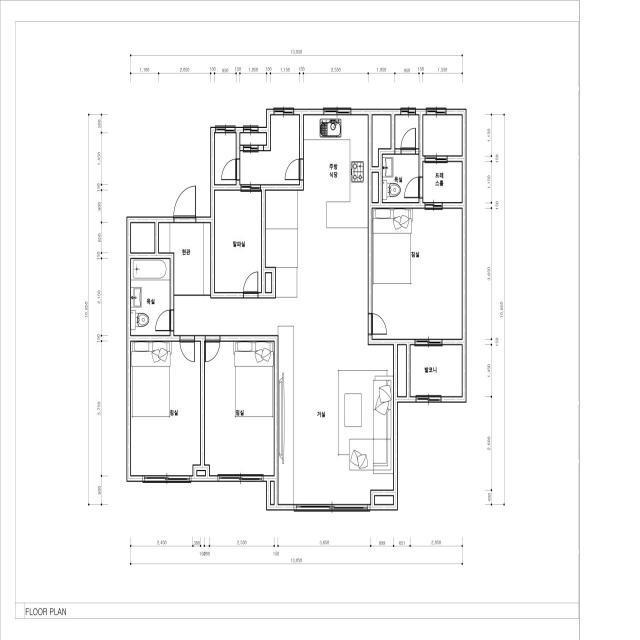space_balconi: (410, 345, 462, 396)
space_bedroom: (373, 210, 462, 339), (205, 341, 274, 476), (131, 341, 200, 475), (215, 191, 261, 293)
space_dressroom: (423, 162, 462, 203), (423, 115, 462, 156)
space_front: (159, 223, 211, 295)
space_kitchen: (266, 115, 368, 298)
space_living_room: (174, 296, 393, 504)
space_other: (240, 115, 299, 185), (215, 133, 236, 185), (372, 115, 391, 166), (131, 223, 155, 252), (398, 345, 406, 396), (240, 133, 266, 145), (372, 173, 378, 202), (375, 496, 393, 504), (266, 273, 272, 292), (271, 482, 274, 504), (197, 471, 205, 476)
space_toilet: (131, 259, 170, 336), (383, 155, 419, 202), (395, 115, 419, 149)
